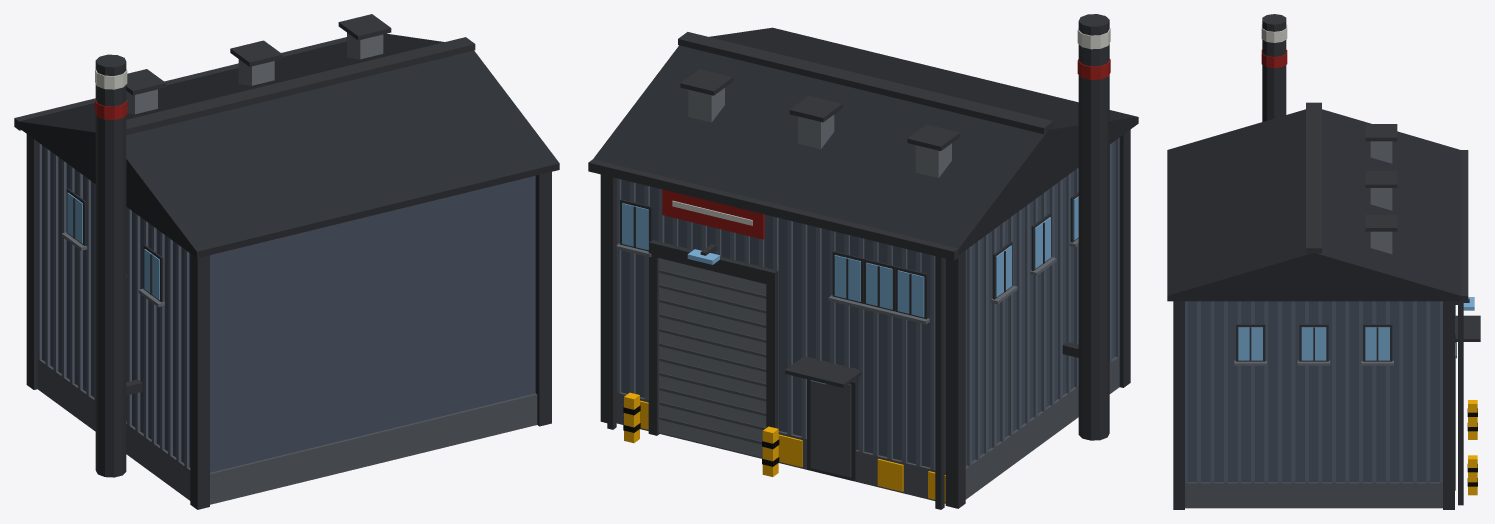
3 renders of one model, left to right at view 1: azimuth 30°, elevation 25°; view 2: azimuth 150°, elevation 25°; view 3: azimuth 270°, elevation 25°, orthographic. The views are drawn at different scales.
Parts seen in each view (by area): view 1: bk3; view 2: bk3; view 3: bk3.
Part boxes in pixels (x1=…): bk3: x1=14, y1=14, x2=559, y2=509; bk3: x1=588, y1=14, x2=1138, y2=509; bk3: x1=1167, y1=14, x2=1480, y2=509.
Size of the model in its own units: 9.54 by 9.4 by 7.9.
